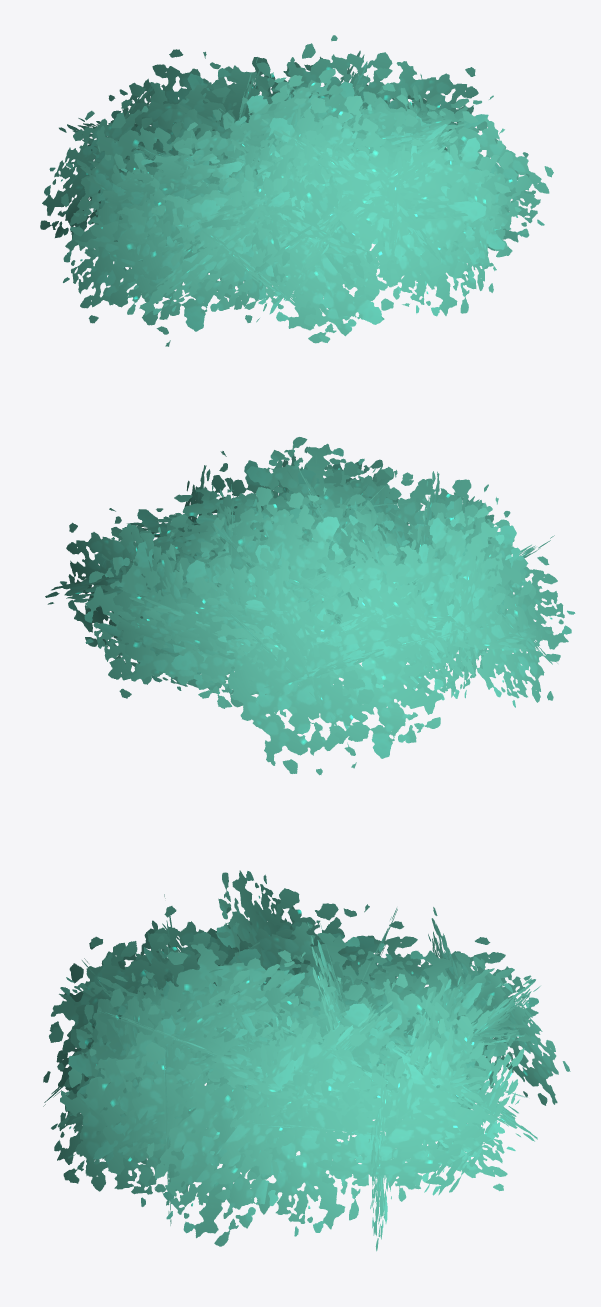
File: SM_ENV_bush_ancient_05.fbx
The picture shows the model from 3 angles, top to bottom: view 1: azimuth 30°, elevation 25°; view 2: azimuth 150°, elevation 25°; view 3: azimuth 270°, elevation 25°; orthographic projection. The views are drawn at different scales.
Parts seen in each view (by area): view 1: SM_ENV_bush_ancient_05_LOD0; view 2: SM_ENV_bush_ancient_05_LOD0; view 3: SM_ENV_bush_ancient_05_LOD0.
Part boxes in pixels (x1=…): SM_ENV_bush_ancient_05_LOD0: x1=40, y1=35, x2=553, y2=346; SM_ENV_bush_ancient_05_LOD0: x1=45, y1=437, x2=575, y2=775; SM_ENV_bush_ancient_05_LOD0: x1=43, y1=870, x2=570, y2=1251.
Bounding box in the file's own units: 79.48 × 39.57 × 71.48.
